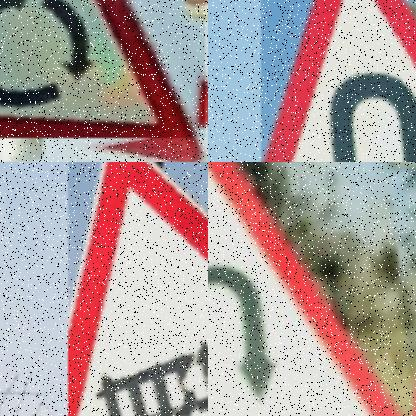Railway Crossing: (68, 162, 208, 416)
U-Turn: (208, 162, 411, 416), (272, 0, 416, 162)
